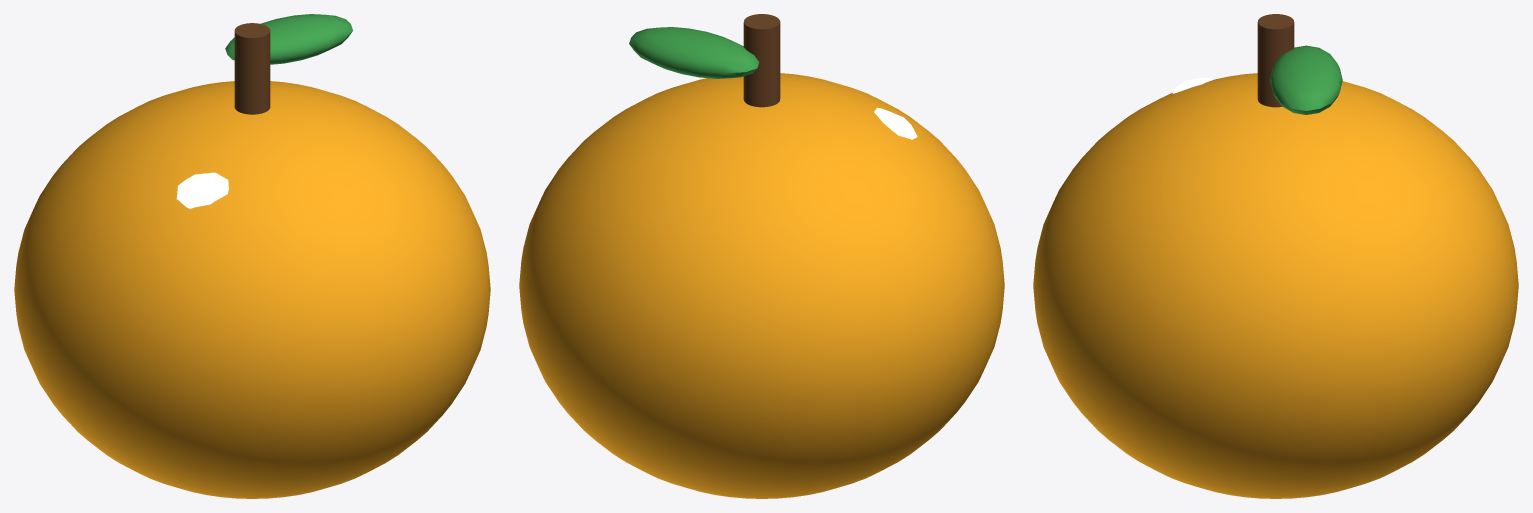
Rendered from jablko_zlute.glb.
3 views of the same model, side by side, from view 1: azimuth 30°, elevation 25°; view 2: azimuth 150°, elevation 25°; view 3: azimuth 270°, elevation 25° (orthographic).
Parts seen in each view (by area): view 1: jablko_zlute_m, jablko_zlute_list, jablko_zlute_stopka, jablko_zlute_lesk; view 2: jablko_zlute_m, jablko_zlute_list, jablko_zlute_stopka, jablko_zlute_lesk; view 3: jablko_zlute_m, jablko_zlute_list, jablko_zlute_stopka.
Boxes of the visible parts, x1,y1,x2,y2 form: jablko_zlute_m: (14, 81, 490, 498); jablko_zlute_list: (225, 14, 352, 64); jablko_zlute_stopka: (234, 23, 270, 114); jablko_zlute_lesk: (176, 172, 228, 208); jablko_zlute_m: (519, 73, 1004, 498); jablko_zlute_list: (629, 27, 759, 78); jablko_zlute_stopka: (743, 14, 780, 107); jablko_zlute_lesk: (874, 107, 917, 139); jablko_zlute_m: (1033, 73, 1518, 498); jablko_zlute_list: (1270, 45, 1342, 114); jablko_zlute_stopka: (1257, 14, 1294, 107).
Size of the model in its own units: 0.8 by 0.82 by 0.8.
